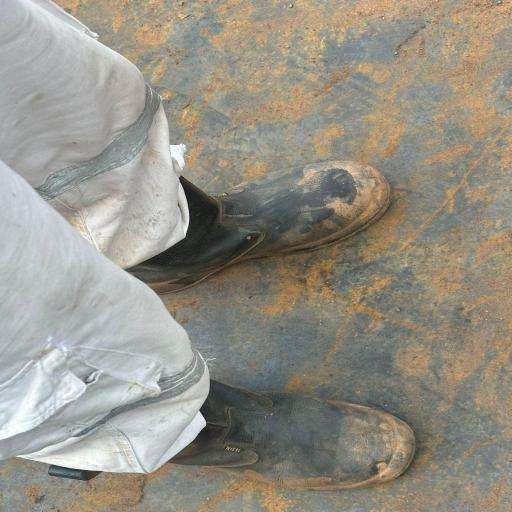safety_shoe: (111, 158, 403, 284), (138, 373, 422, 493)
